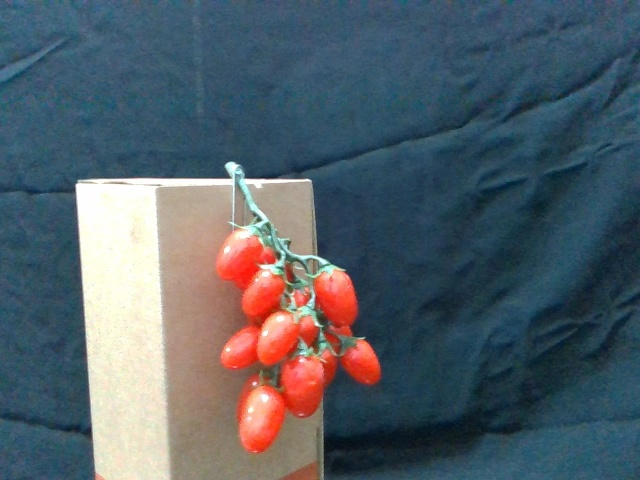tomato: (240, 384, 286, 455), (218, 221, 268, 282), (283, 350, 327, 417), (315, 264, 359, 328), (241, 263, 286, 316), (258, 309, 299, 364), (341, 336, 383, 384), (222, 325, 261, 368), (294, 302, 323, 345)
